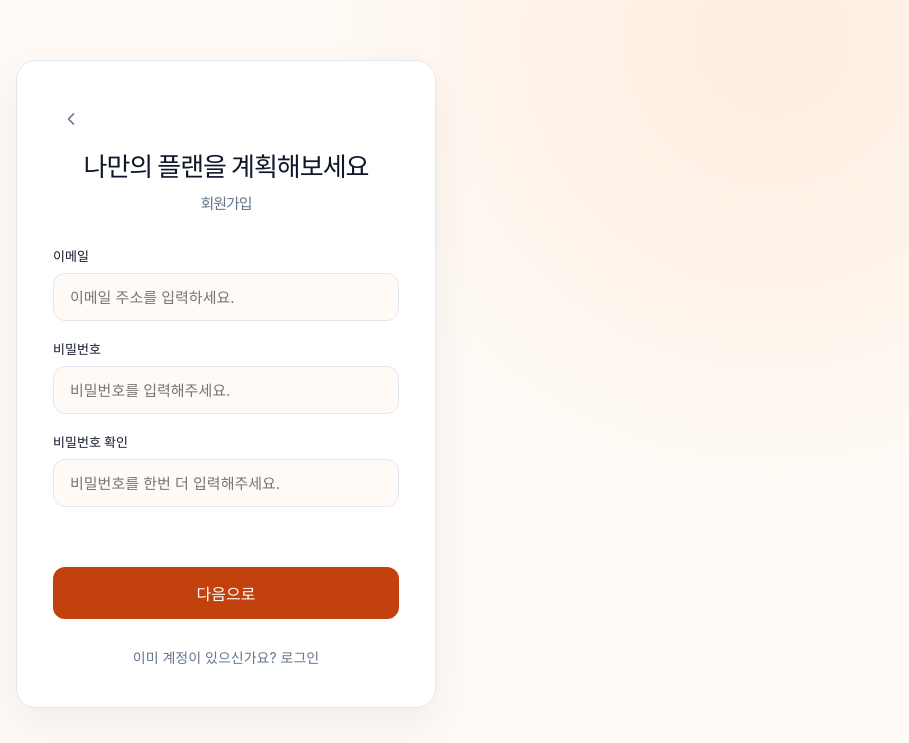
Scenario: JoinView › email 확인 중 중복 제출을 막고 서버 오류를 표시한다
Type "member@example.com" into the field with id "join-email".
click(226, 297); type("member@example.com")  # box [53, 273, 399, 321]
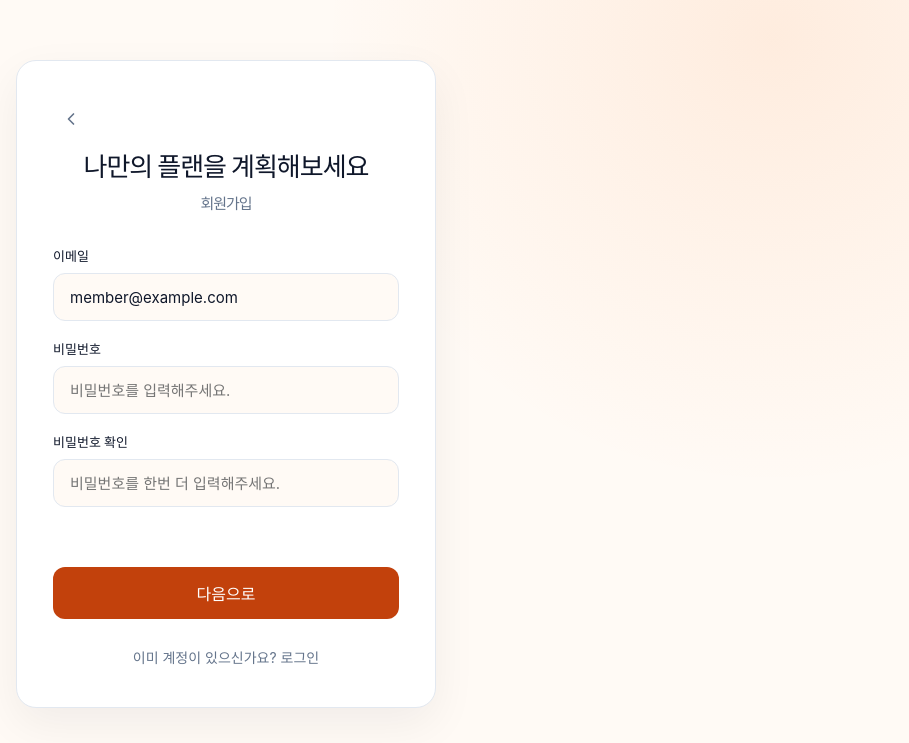
Type "password-value" into the password field with id "join-password".
click(226, 390); type("password-value")  # box [53, 366, 399, 414]
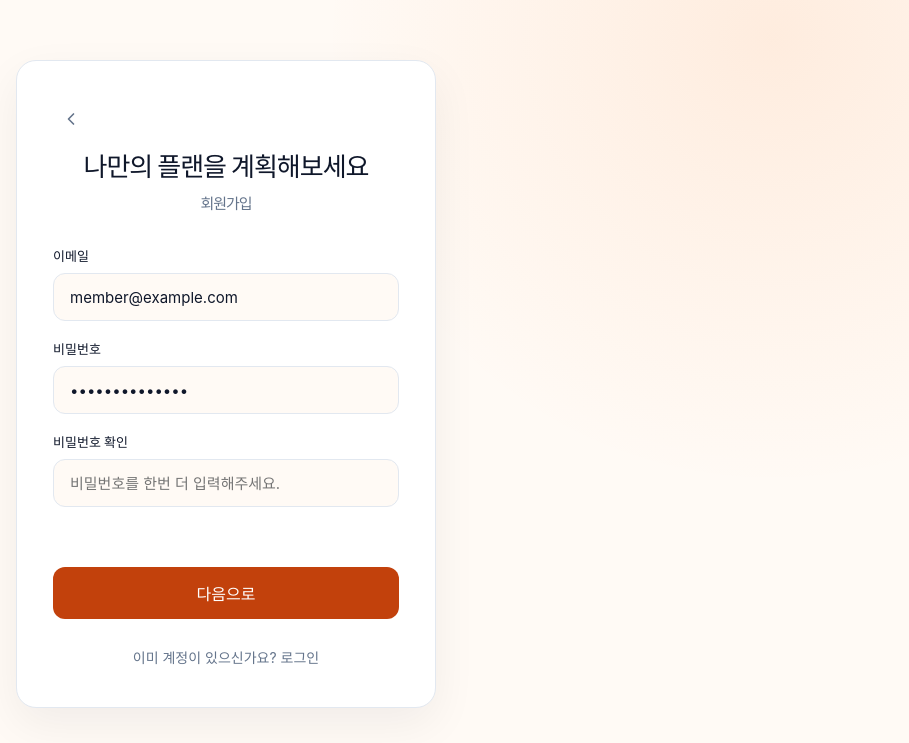
Type "password-value" into the password field with id "join-password-confirmation".
click(226, 483); type("password-value")  # box [53, 459, 399, 507]
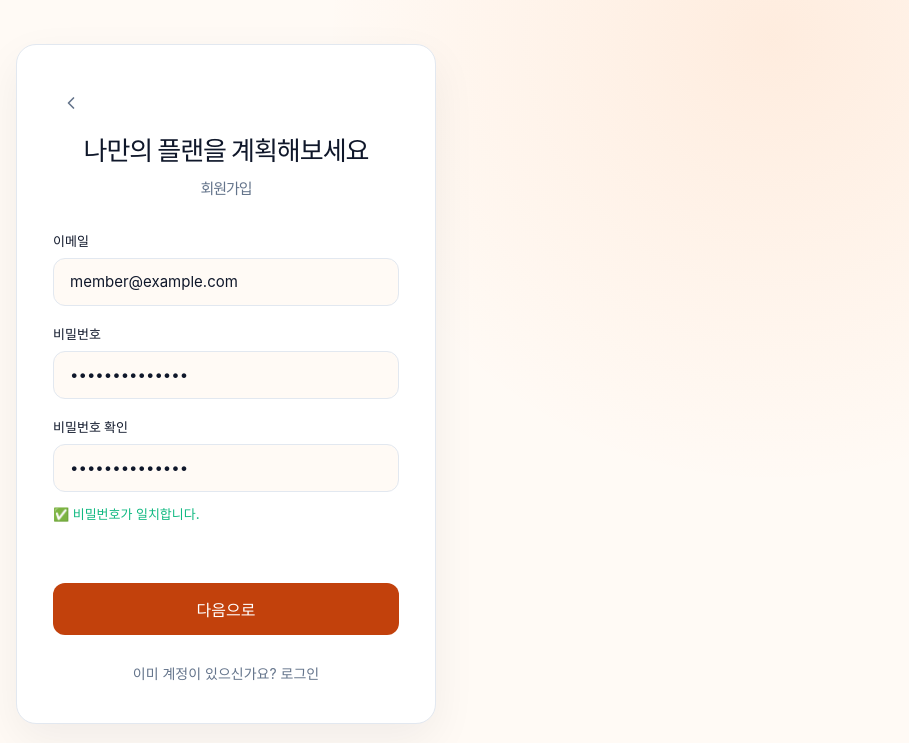
Submit the form, box [53, 231, 399, 635]
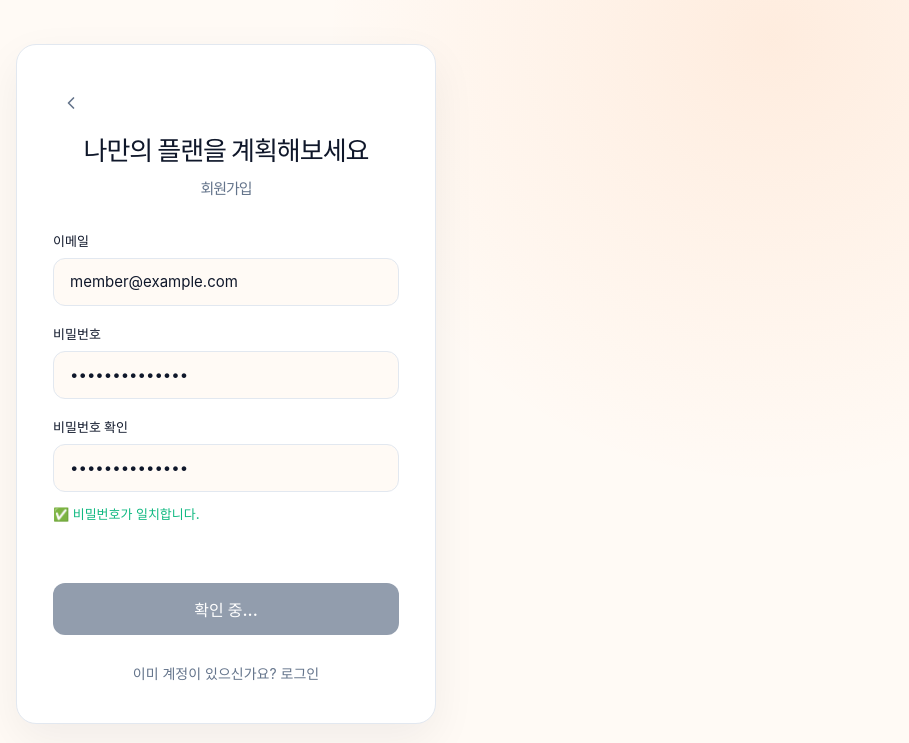
Submit the form, box [53, 231, 399, 635]
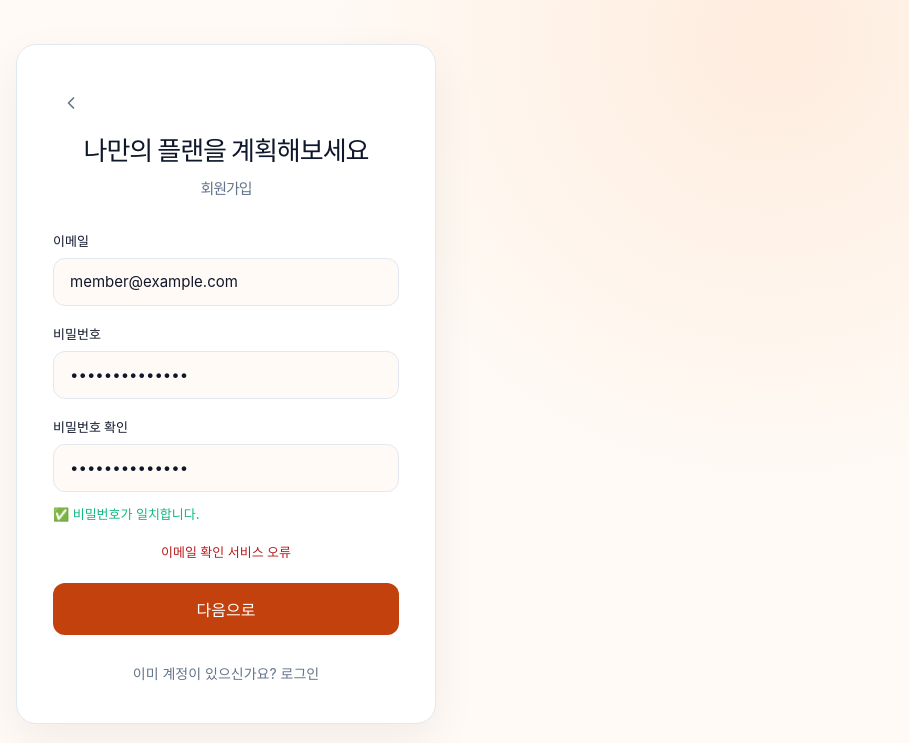
Now the message "이메일 확인 서비스 오류" is shown, box [161, 544, 291, 560]
